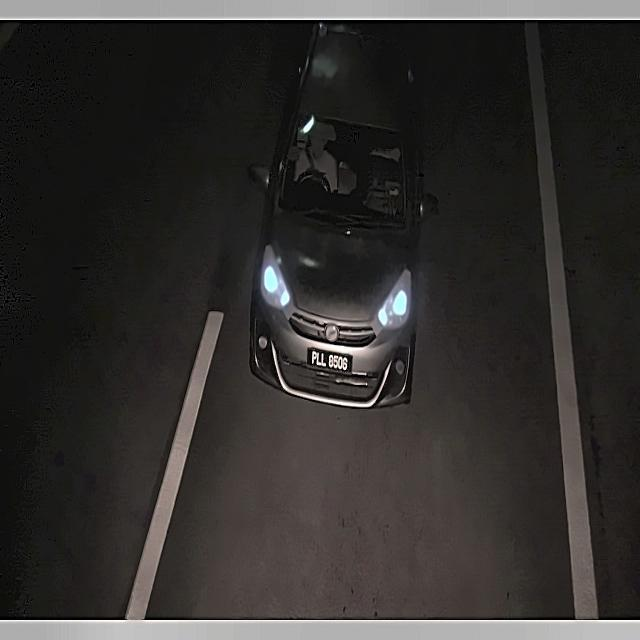car: (304, 338, 354, 379)
